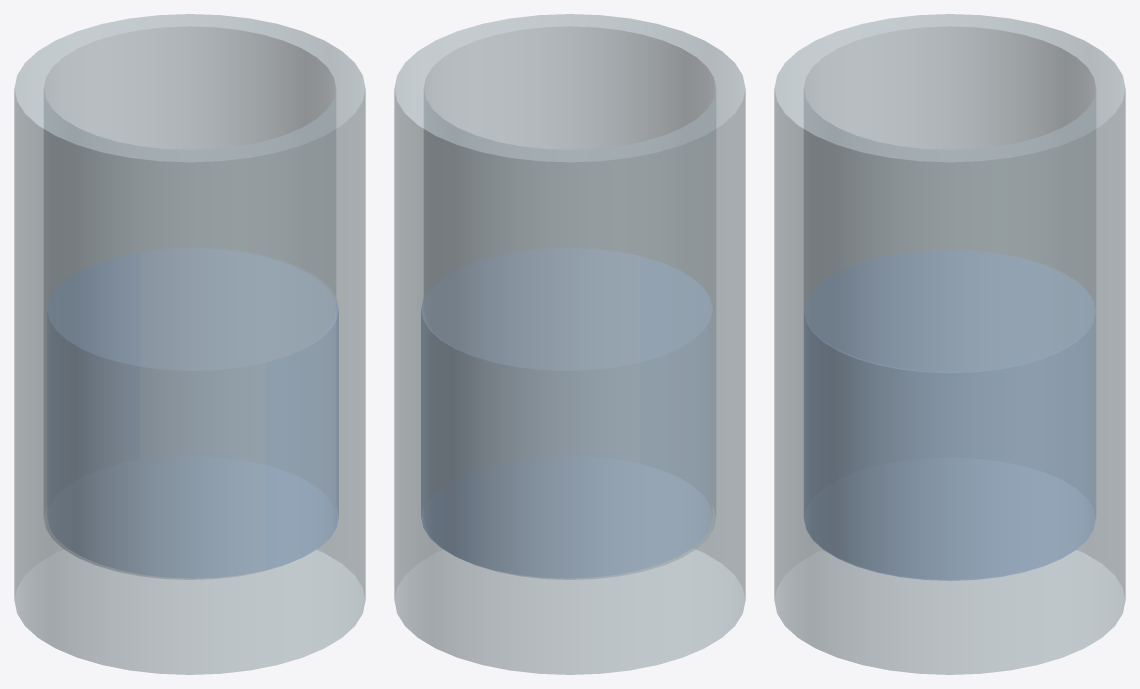
The model's file is glas.dae.
3 renders of one model, left to right at view 1: azimuth 30°, elevation 25°; view 2: azimuth 150°, elevation 25°; view 3: azimuth 270°, elevation 25°, orthographic.
Visible parts, largest first — view 1: Zylinder, Zylinder.1; view 2: Zylinder, Zylinder.1; view 3: Zylinder, Zylinder.1.
Boxes of the visible parts, x1,y1,x2,y2 form: Zylinder: (14, 14, 365, 674); Zylinder.1: (47, 249, 338, 578); Zylinder: (394, 14, 745, 674); Zylinder.1: (421, 249, 712, 578); Zylinder: (774, 14, 1125, 674); Zylinder.1: (804, 250, 1095, 580).
Size of the model in its own units: 14.74 by 23.75 by 14.74.
